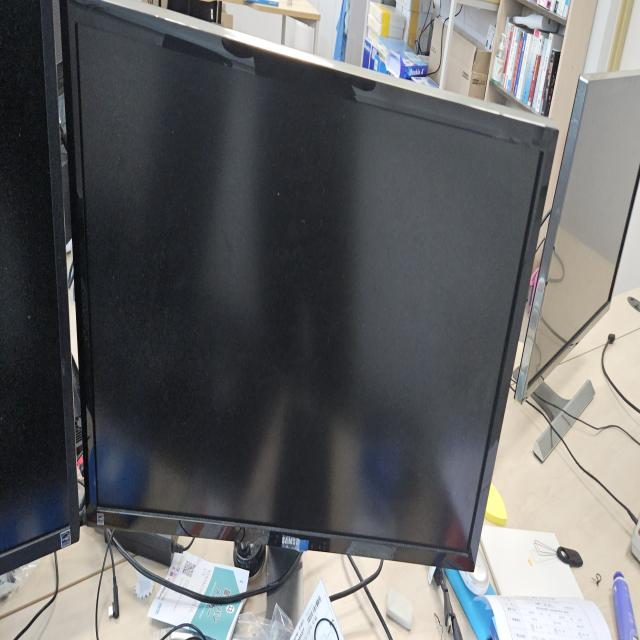Monitor: (58, 1, 559, 581)
